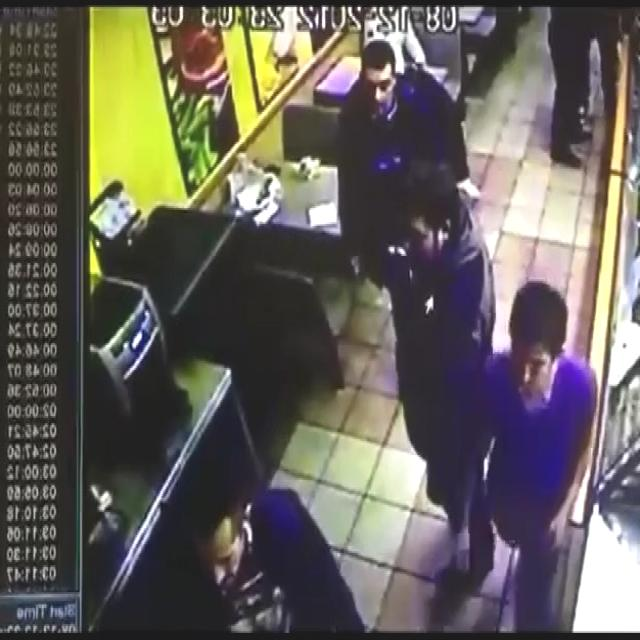fight: (192, 497, 376, 639)
